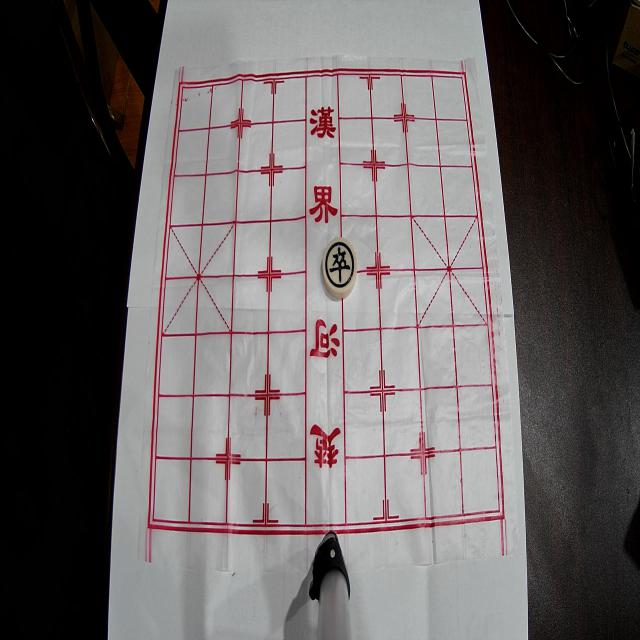black-soldier: (322, 237, 358, 299)
